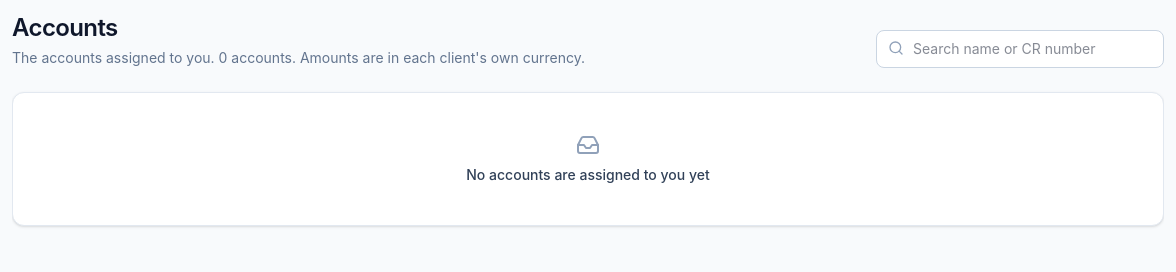
Test: AccountsPage › tells an RM with no accounts that none are assigned, and only a search that nothing matched
The image size is (1176, 272).
Expected: the text "No accounts are assigned to you yet" is shown, [466,165,710,185]
Expected: the text "No accounts match" is not shown
Type "pearl" into the search field named "Search accounts" at (1020,49), box [876,30,1164,68]
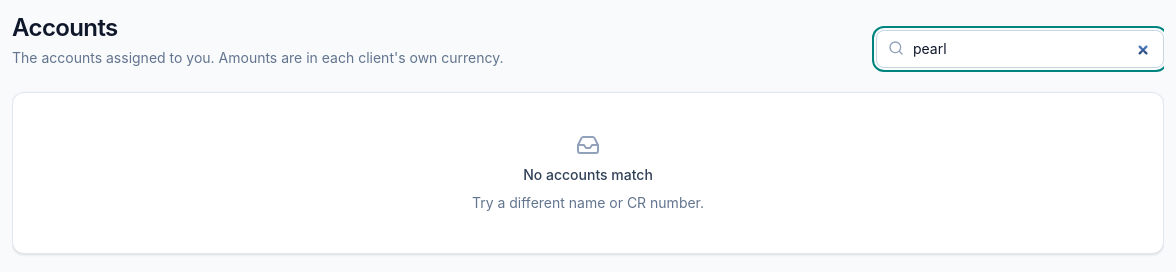
Expected: the text "No accounts match" is shown, [523,165,653,185]
